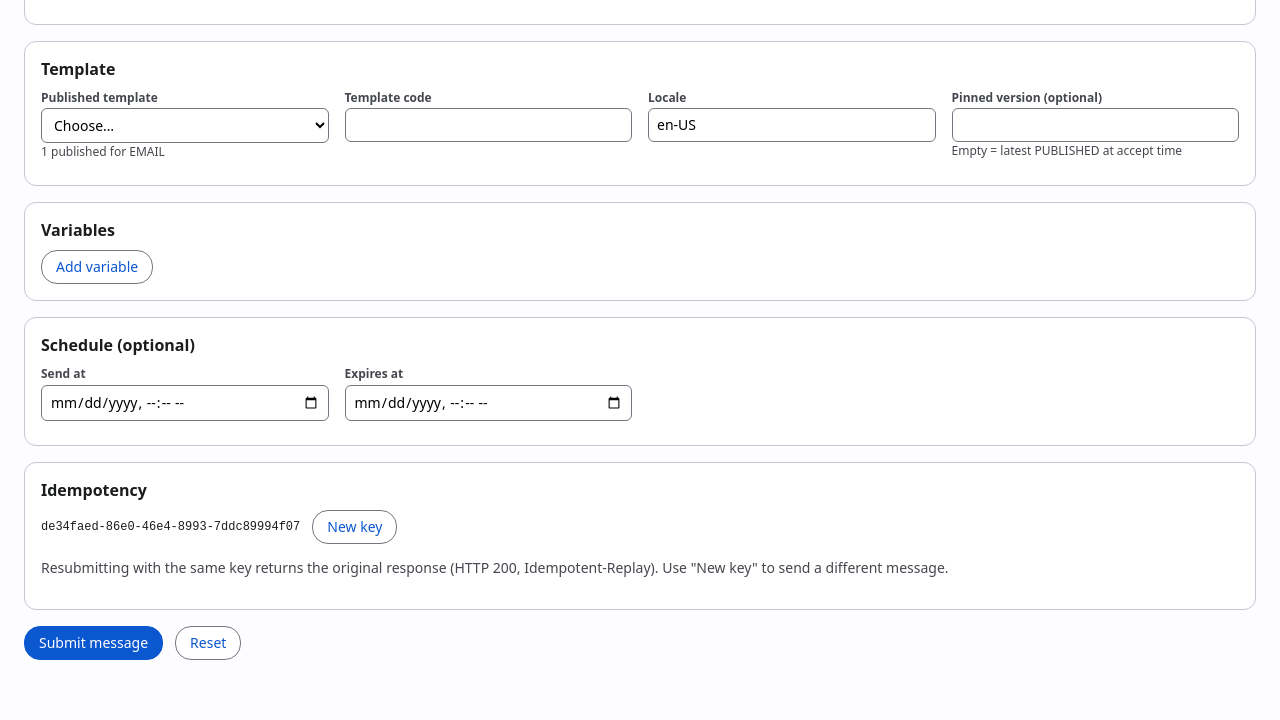
Scenario: submit message page › blocks submission and shows field errors for an empty form
(page scrolled)
What coordinates should you click on to do the following:
click the button "Submit message"
I would click on:
 (94, 643)
Its box is [24, 626, 163, 660].
(page scrolled)
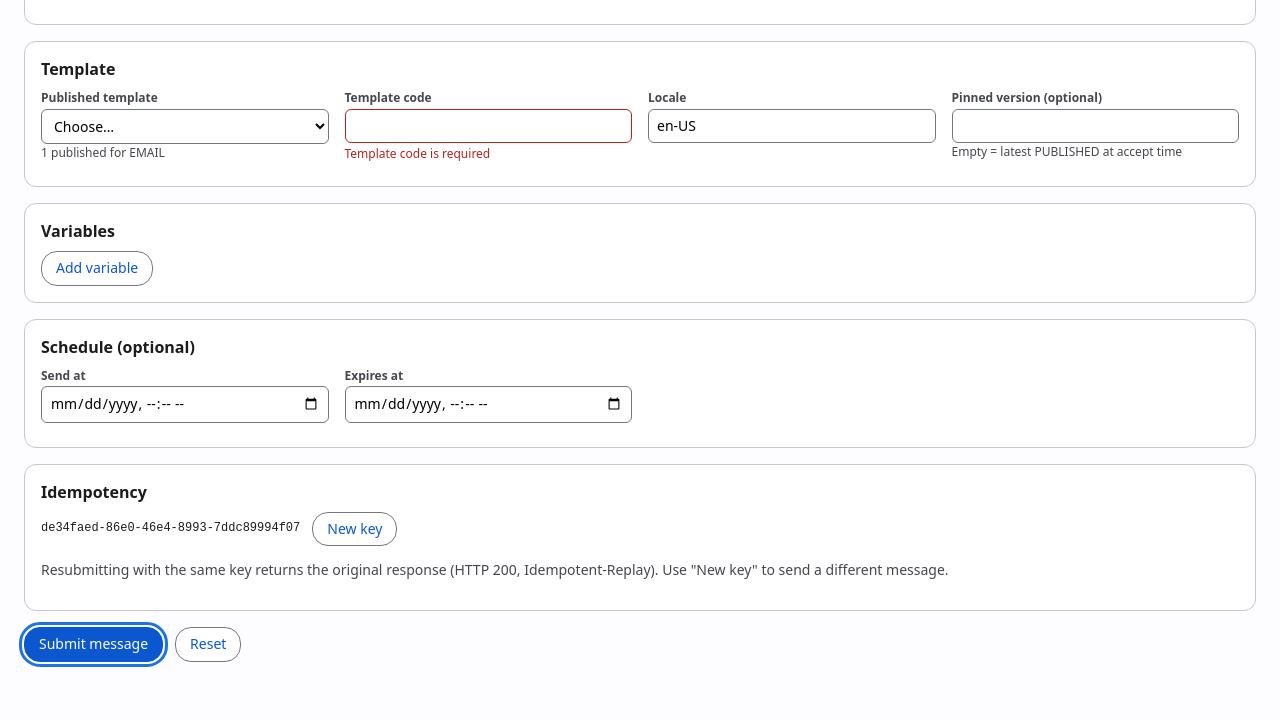
Expected: the text "Template code is required" is shown, [344, 145, 490, 162]
